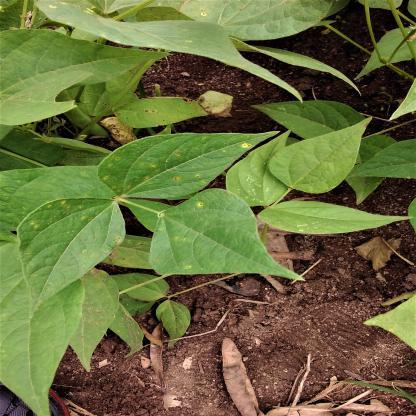Beans_Rust: (152, 191, 302, 276), (92, 130, 279, 198), (20, 199, 126, 317)
